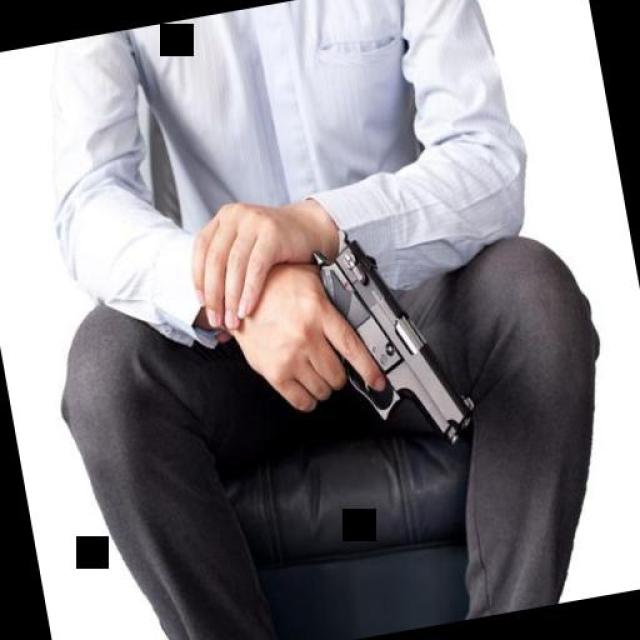gun: (219, 231, 476, 484)
